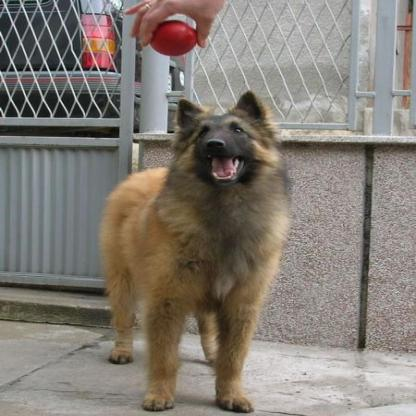malinois: (99, 90, 291, 411)
